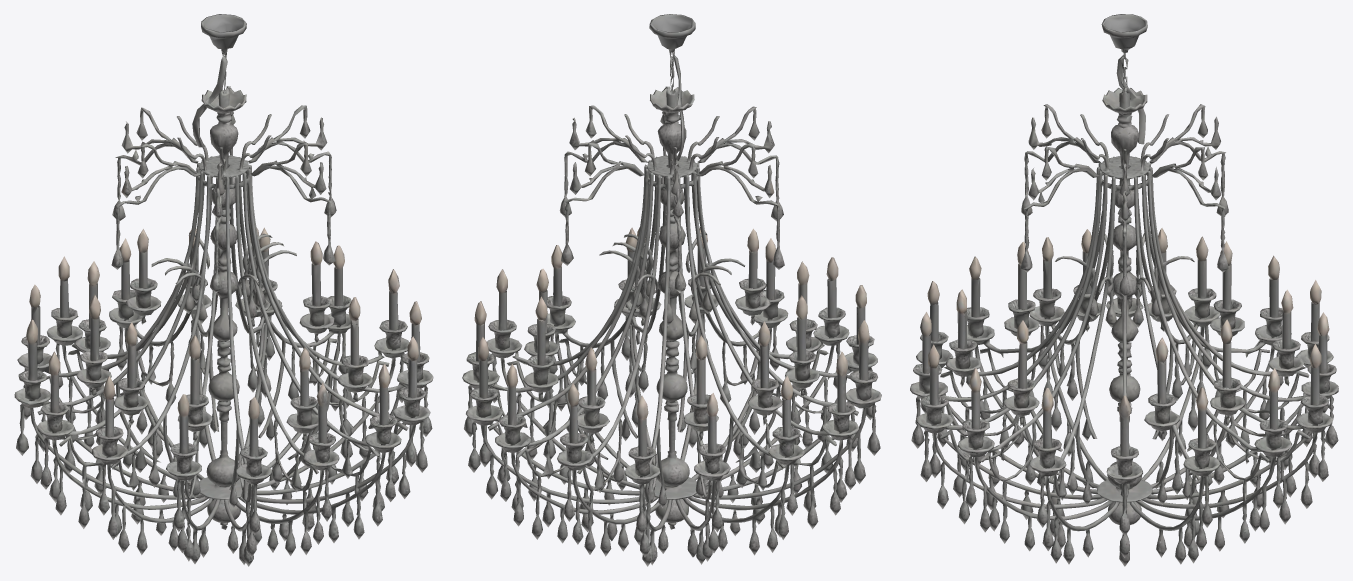
Rendered from decor-chandelier-candelabra.glb.
The picture shows the model from 3 angles, left to right: view 1: azimuth 30°, elevation 25°; view 2: azimuth 150°, elevation 25°; view 3: azimuth 270°, elevation 25°; orthographic projection.
Parts seen in each view (by area): view 1: tripo_node_758129f1-c25c-4c1c-8cc6-d56f4e761565; view 2: tripo_node_758129f1-c25c-4c1c-8cc6-d56f4e761565; view 3: tripo_node_758129f1-c25c-4c1c-8cc6-d56f4e761565.
Part boxes in pixels (bbox=[...]): tripo_node_758129f1-c25c-4c1c-8cc6-d56f4e761565: bbox=[14, 14, 433, 566]; tripo_node_758129f1-c25c-4c1c-8cc6-d56f4e761565: bbox=[462, 14, 881, 566]; tripo_node_758129f1-c25c-4c1c-8cc6-d56f4e761565: bbox=[910, 14, 1338, 566].
Bounding box in the file's own units: 0.917 × 1.2 × 0.9173.
Materials: 1 (1 with a texture image).
